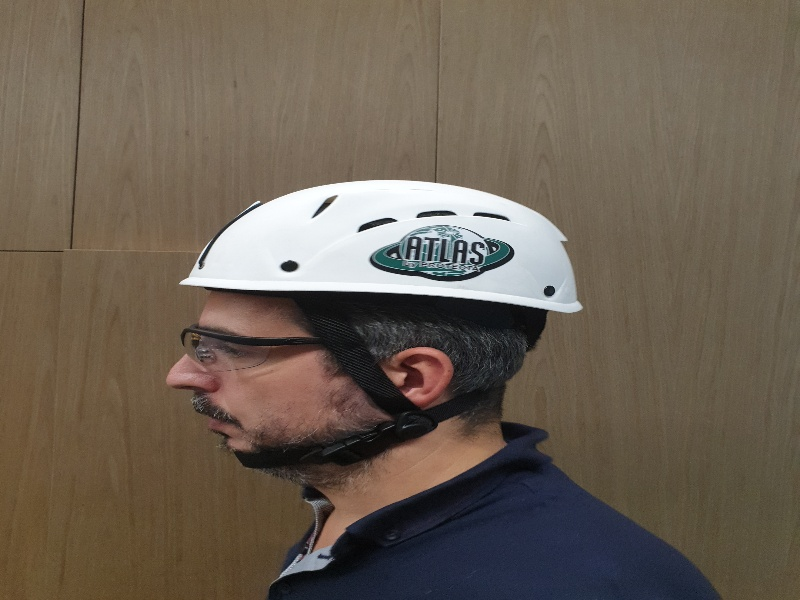Baret: (185, 178, 586, 316)
Gozluk: (177, 324, 379, 373)
